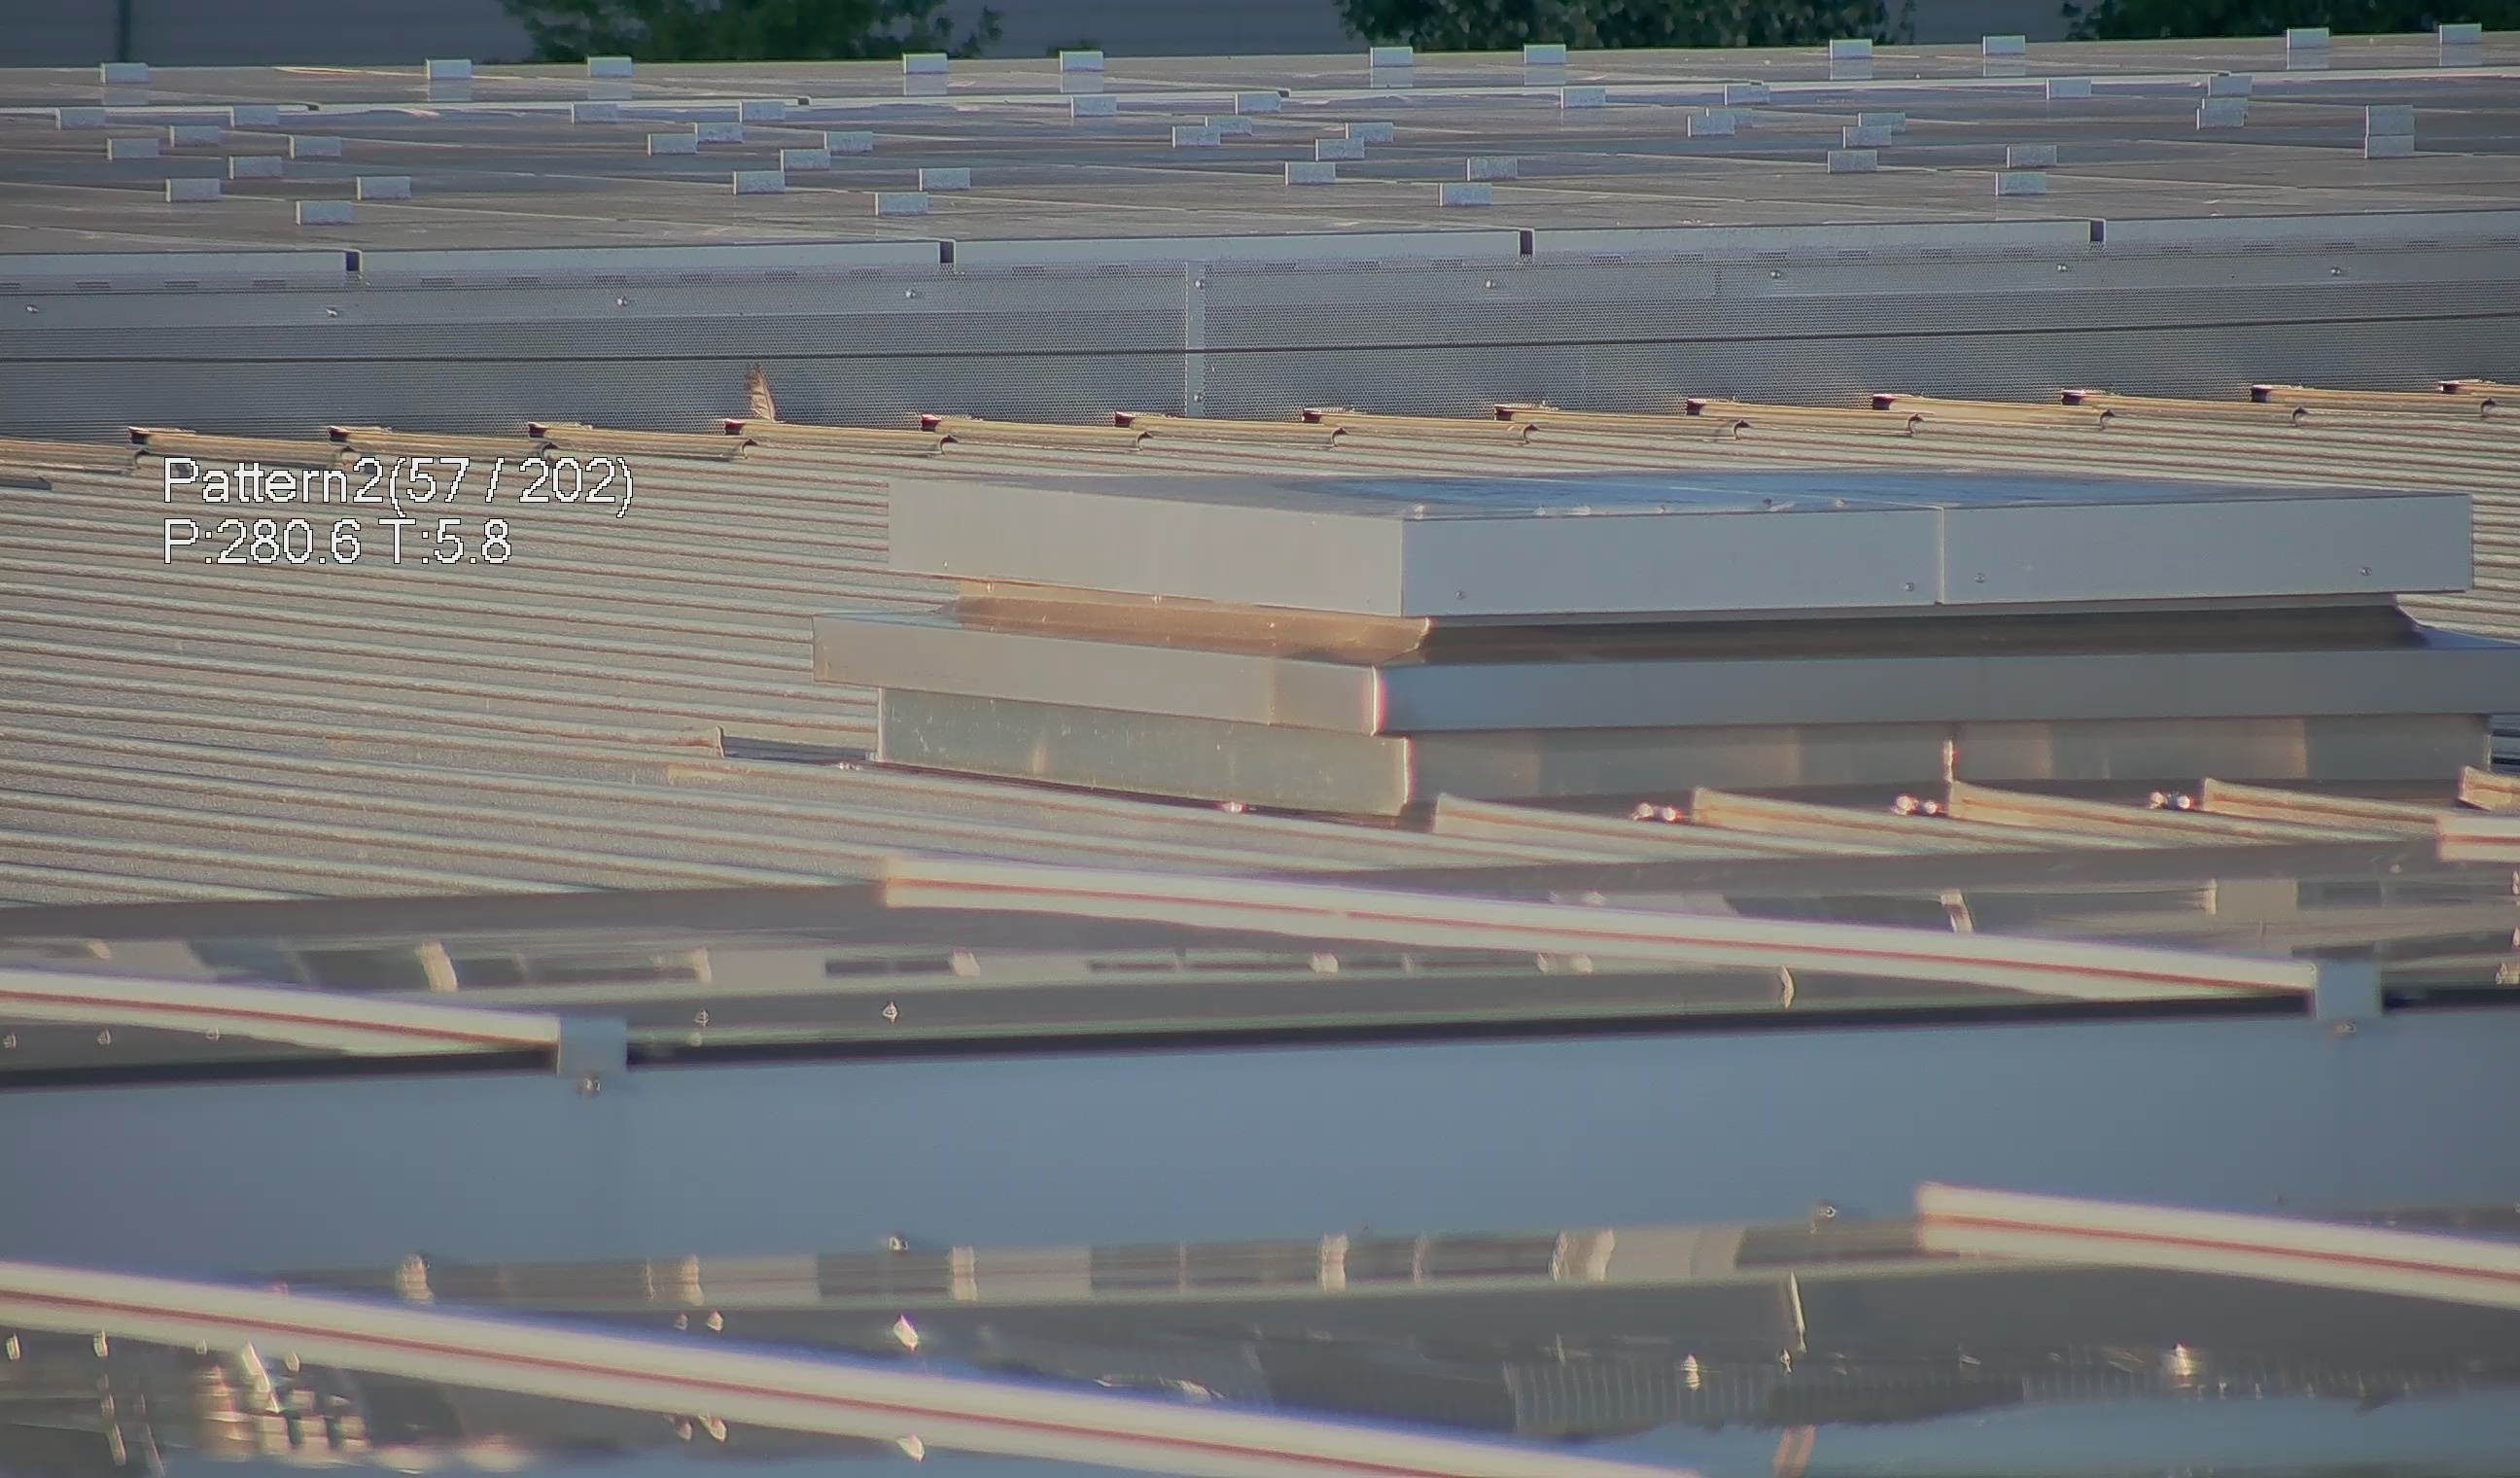Other: (723, 347, 779, 433)
